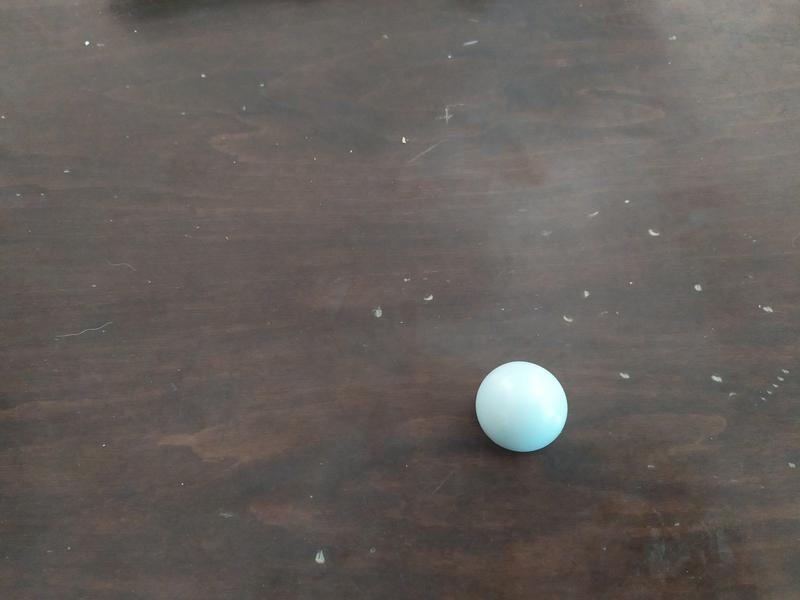Warning: (471, 358, 571, 456)
